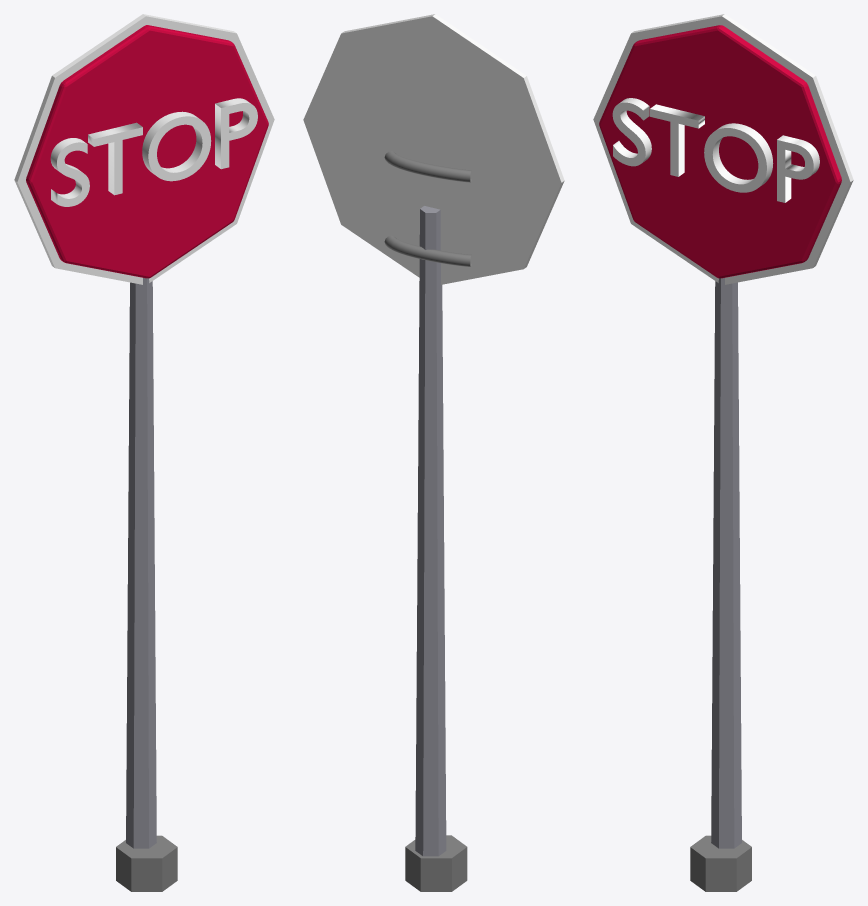
The picture shows the model from 3 angles, left to right: view 1: azimuth 30°, elevation 25°; view 2: azimuth 150°, elevation 25°; view 3: azimuth 330°, elevation 25°; orthographic projection.
Parts seen in each view (by area): view 1: Cylinder.003, Cylinder.001, Text, Cylinder.002, Cylinder; view 2: Cylinder.002, Cylinder.001, Cylinder, BézierCurve.001, BézierCurve; view 3: Cylinder.003, Cylinder.001, Text, Cylinder.002, Cylinder.
Boxes of the visible parts, x1,y1,x2,y2 form: Cylinder.003: (26,25,268,278); Cylinder.001: (126,278,156,848); Text: (50,98,257,206); Cylinder.002: (14,14,274,284); Cylinder: (116,835,177,891); Cylinder.002: (303,14,564,284); Cylinder.001: (415,206,446,856); Cylinder: (405,835,467,891); BézierCurve.001: (384,151,471,182); BézierCurve: (384,235,471,266); Cylinder.003: (599,25,841,278); Cylinder.001: (711,278,741,848); Text: (612,98,819,202); Cylinder.002: (593,14,853,284); Cylinder: (690,835,751,891).
Size of the model in its own units: 0.96 by 3.08 by 0.2.
